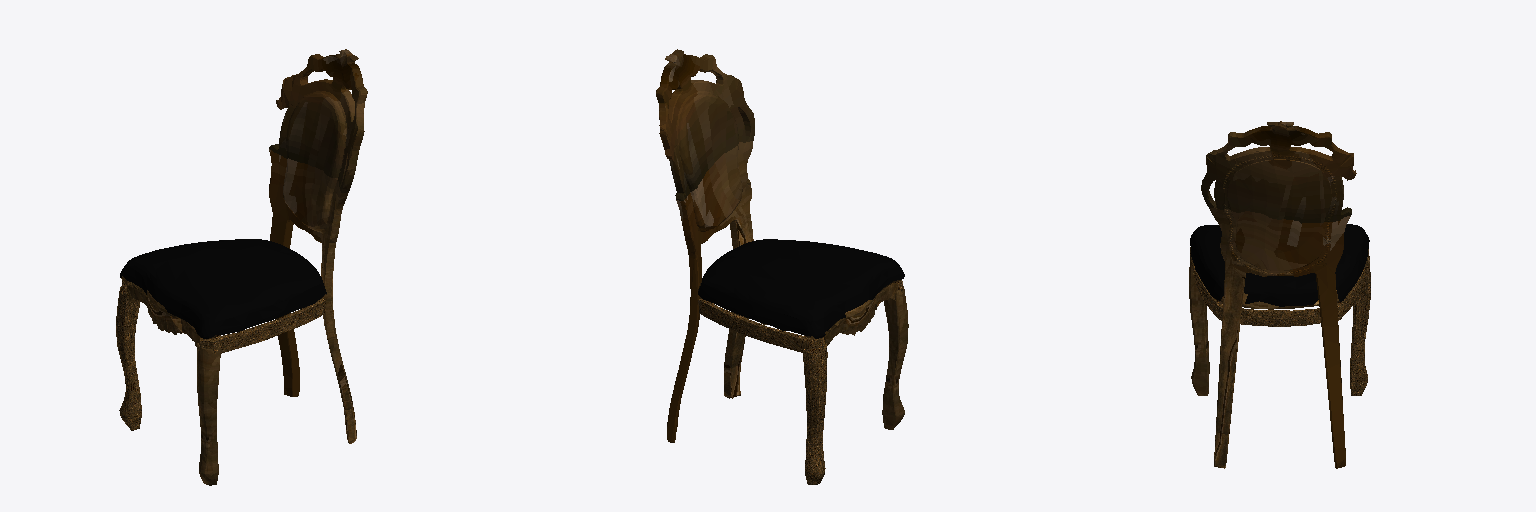
3 views of the same model, side by side, from view 1: azimuth 30°, elevation 25°; view 2: azimuth 150°, elevation 25°; view 3: azimuth 270°, elevation 25° (orthographic).
Visible parts, largest first — view 1: chair_wood, chair_black; view 2: chair_wood, chair_black; view 3: chair_wood, chair_black.
Part boxes in pixels (bbox=[...]): chair_wood: bbox=[116, 49, 367, 485]; chair_black: bbox=[120, 239, 326, 338]; chair_wood: bbox=[656, 49, 908, 484]; chair_black: bbox=[698, 239, 904, 338]; chair_wood: bbox=[1189, 121, 1370, 468]; chair_black: bbox=[1190, 224, 1369, 306].
Size of the model in its own units: 23.24 by 40.83 by 18.76.
2 materials, 1 textured.